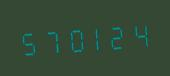five: (17, 24, 38, 59)
four: (128, 17, 149, 51)
one: (84, 20, 105, 54)
seven: (39, 23, 60, 57)
two: (106, 18, 127, 53)
zero: (62, 21, 83, 56)
